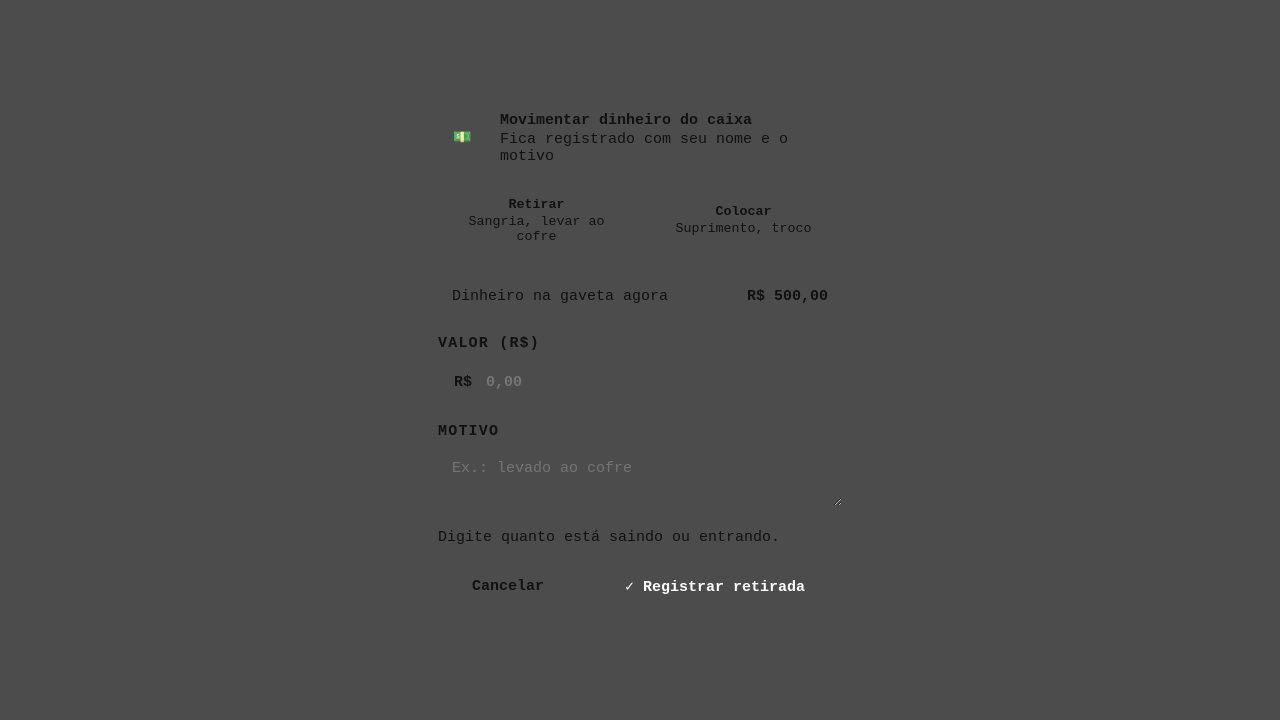
Scenario: MovimentoCaixaModal, o botão diz por que não dá para confirmar › valor sem motivo continua bloqueado, o motivo é o que a conferência lê
The width and height of the screenshot is (1280, 720).
In the number field with class "movimento-caixa__input": (640,382) [438,360,842,404], type "50"
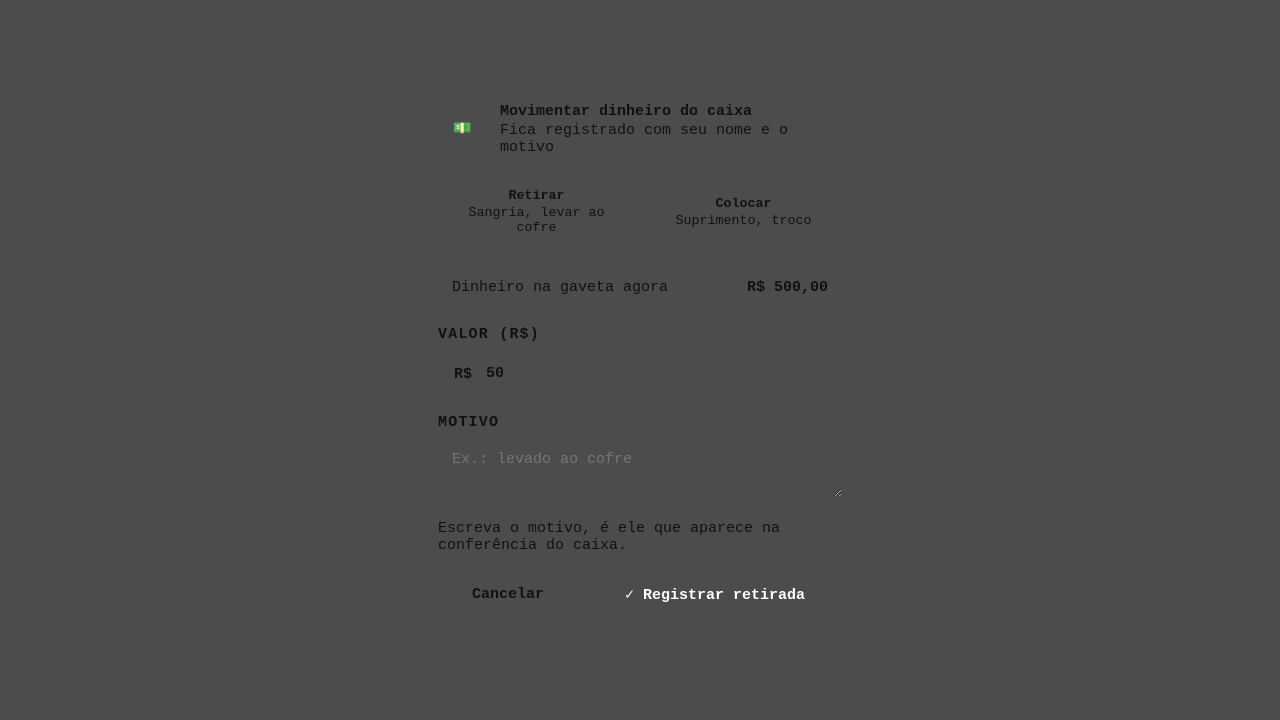
expect the button with class "movimento-caixa__botao-confirmar" is disabled: met, box [588,572,842,617]
expect the text with class "movimento-caixa__pendencia" shows "Escreva o motivo": met, box [438,520,780,554]
